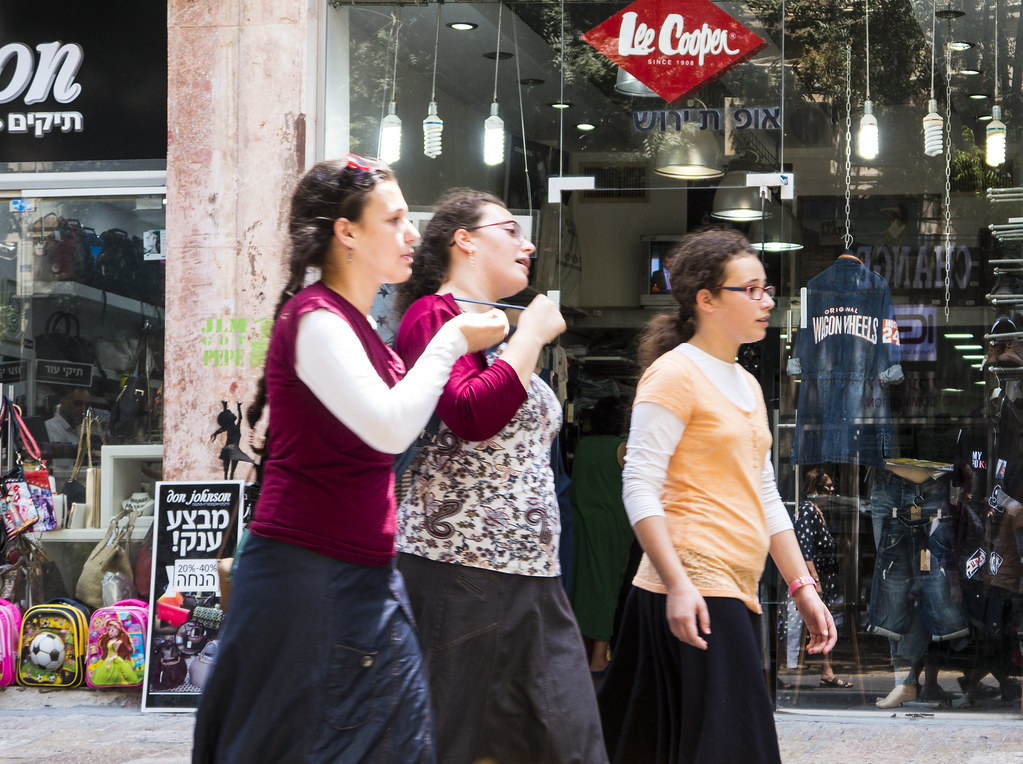Person: (177, 132, 513, 764), (395, 187, 616, 764), (625, 223, 838, 764)
